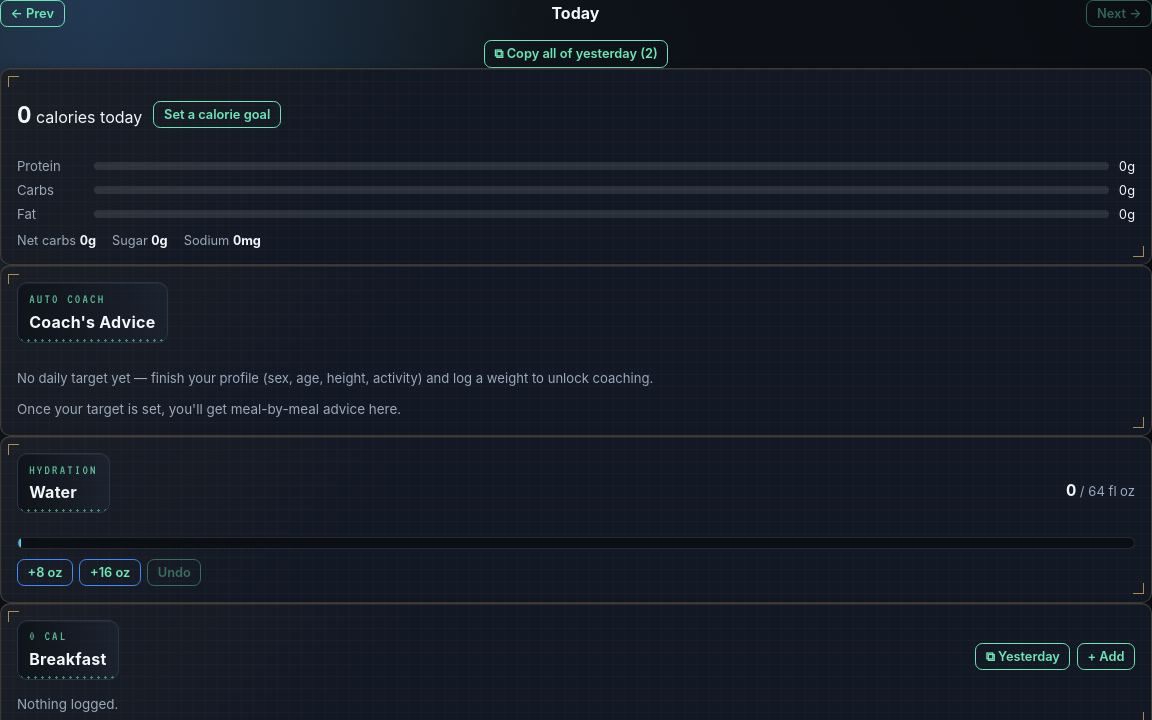
Test: NutritionDiary › copies all of yesterday when today is empty
Step 1. Click the button "⧉ Copy all of yesterday (2)" → (576, 54), box 484,40 -> 668,68
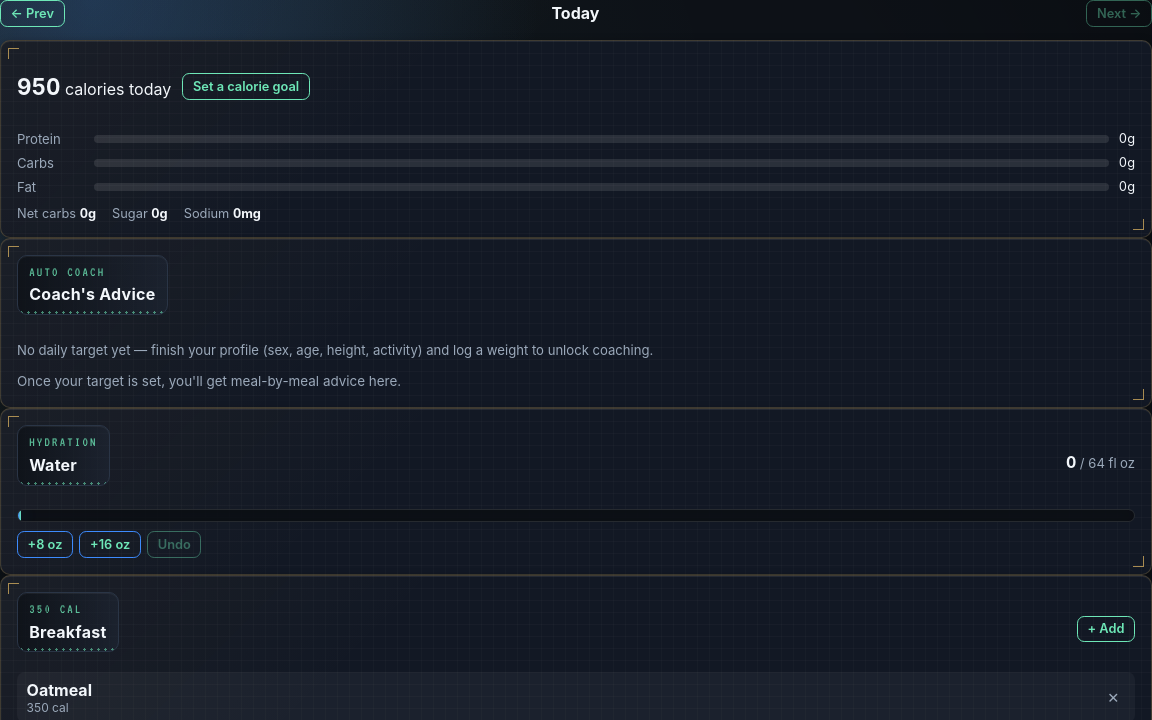
expect the button "Copy all of yesterday" is gone: met
